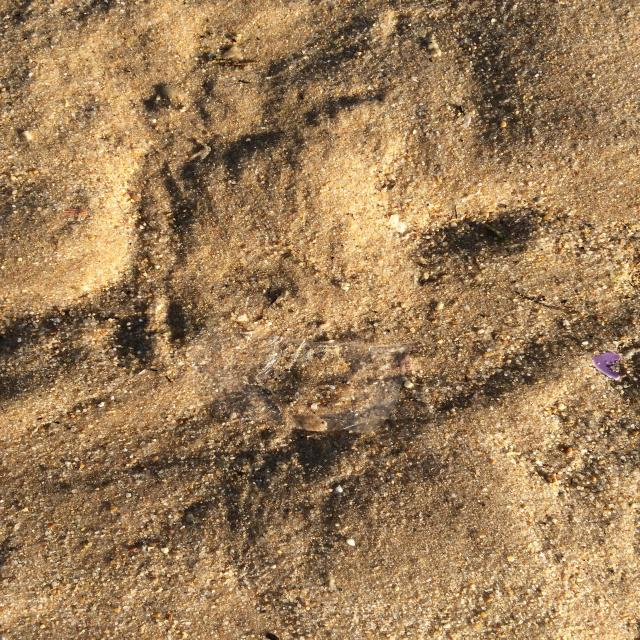litter: (586, 346, 638, 384)
